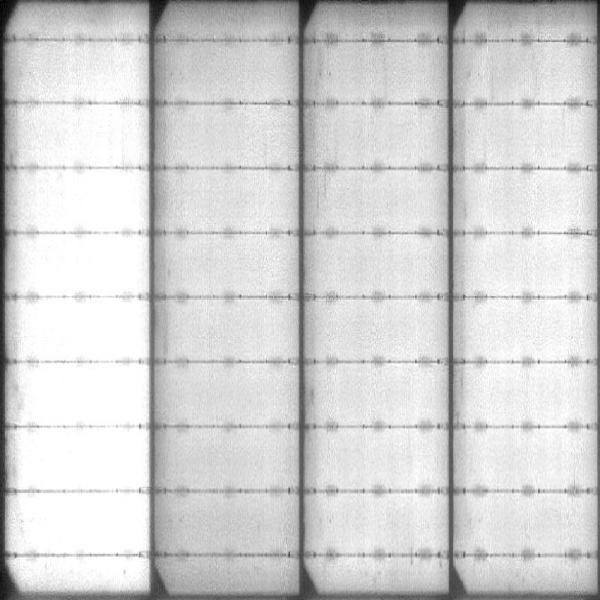hot_spot: (12, 496, 138, 551), (25, 433, 146, 482), (29, 373, 143, 419), (35, 306, 142, 349), (45, 243, 135, 285), (87, 176, 139, 226)
